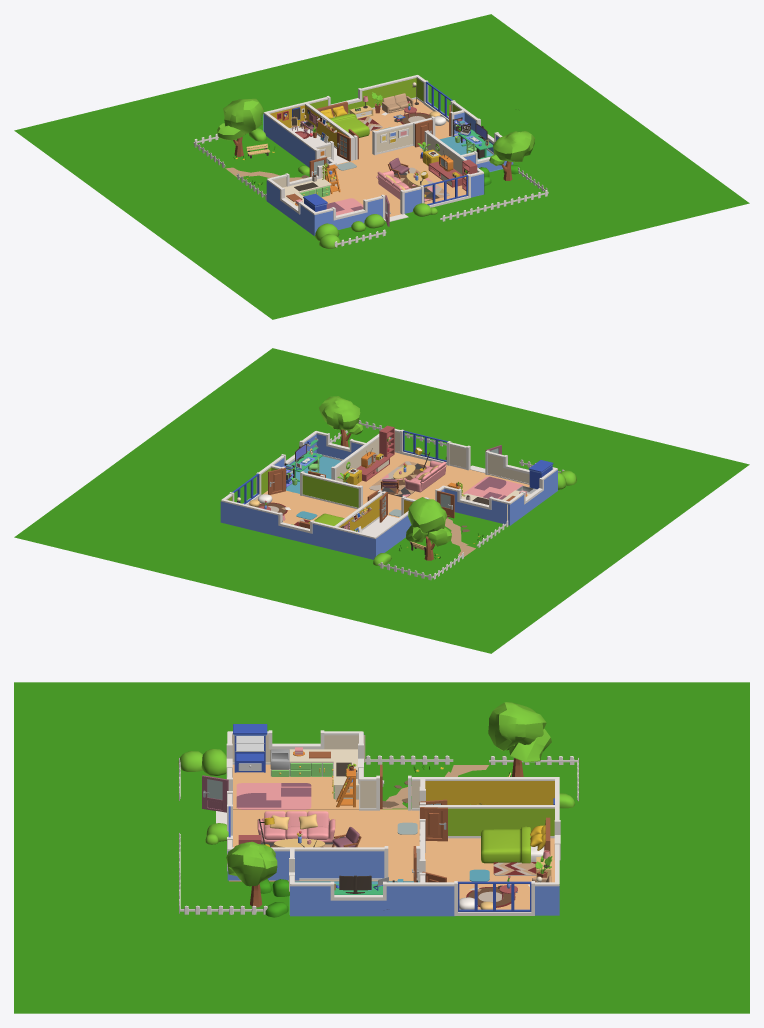
Rendered from WebRoom.gltf.
The picture shows the model from 3 angles, top to bottom: view 1: azimuth 30°, elevation 25°; view 2: azimuth 150°, elevation 25°; view 3: azimuth 270°, elevation 25°; orthographic projection. The views are drawn at different scales.
Visible parts, largest first — view 1: ground, Merged Geometry 4, Cube 2.008, Merged Geometry 5, Merged Geometry.035, Merged Geometry 3.001, wall.001, Cube 92.001, Cube 2.011, Cube 2.012, Merged Geometry 3.002, Merged Geometry.034 (+2 smaller); view 2: ground, Merged Geometry 4, Merged Geometry 5, Cube 2.008, Merged Geometry 3.001, Merged Geometry.035, Cube 92.001, wall.001, Cube 2.012, Cube 2.011, wall, Merged Geometry.034 (+2 smaller); view 3: ground, Merged Geometry 4, Cube 2.008, Merged Geometry 5, Cube 92.001, Merged Geometry 2.006, wall.001, wall, Merged Geometry.035, Cube 2.011, Cube.009, Cube 2.012 (+14 smaller).
Boxes of the visible parts, left/top/right/bottom form: ground: left=14, top=14, right=749, bottom=319; Merged Geometry 4: left=263, top=114, right=513, bottom=235; Cube 2.008: left=336, top=146, right=466, bottom=216; Merged Geometry 5: left=263, top=75, right=502, bottom=214; Merged Geometry.035: left=280, top=80, right=499, bottom=220; Merged Geometry 3.001: left=273, top=125, right=477, bottom=187; wall.001: left=309, top=78, right=460, bottom=113; Cube 92.001: left=359, top=99, right=451, bottom=158; Cube 2.011: left=223, top=98, right=263, bottom=133; Cube 2.012: left=493, top=131, right=534, bottom=162; Merged Geometry 3.002: left=314, top=214, right=384, bottom=248; Merged Geometry.034: left=315, top=111, right=454, bottom=218; ground: left=14, top=348, right=749, bottom=653; Merged Geometry 4: left=220, top=470, right=557, bottom=559; Merged Geometry 5: left=221, top=428, right=557, bottom=538; Cube 2.008: left=356, top=452, right=487, bottom=517; Merged Geometry 3.001: left=336, top=431, right=529, bottom=520; Merged Geometry.035: left=229, top=429, right=543, bottom=533; Cube 92.001: left=249, top=490, right=356, bottom=524; wall.001: left=227, top=467, right=358, bottom=507; Cube 2.012: left=319, top=396, right=360, bottom=430; Cube 2.011: left=408, top=497, right=447, bottom=532; wall: left=274, top=434, right=362, bottom=472; Merged Geometry.034: left=281, top=445, right=489, bottom=515; ground: left=14, top=682, right=749, bottom=1013; Merged Geometry 4: left=227, top=733, right=559, bottom=916; Cube 2.008: left=229, top=809, right=419, bottom=881; Merged Geometry 5: left=227, top=731, right=559, bottom=891; Cube 92.001: left=425, top=838, right=554, bottom=909; Merged Geometry 2.006: left=425, top=781, right=554, bottom=804; wall.001: left=448, top=808, right=554, bottom=835; wall: left=294, top=851, right=384, bottom=880; Merged Geometry.035: left=226, top=730, right=560, bottom=915; Cube 2.011: left=488, top=702, right=546, bottom=750; Cube.009: left=232, top=764, right=358, bottom=809; Cube 2.012: left=226, top=841, right=277, bottom=886.
Size of the model in its own units: 115 by 14.15 by 108.
Materials: 36 (1 with a texture image).
